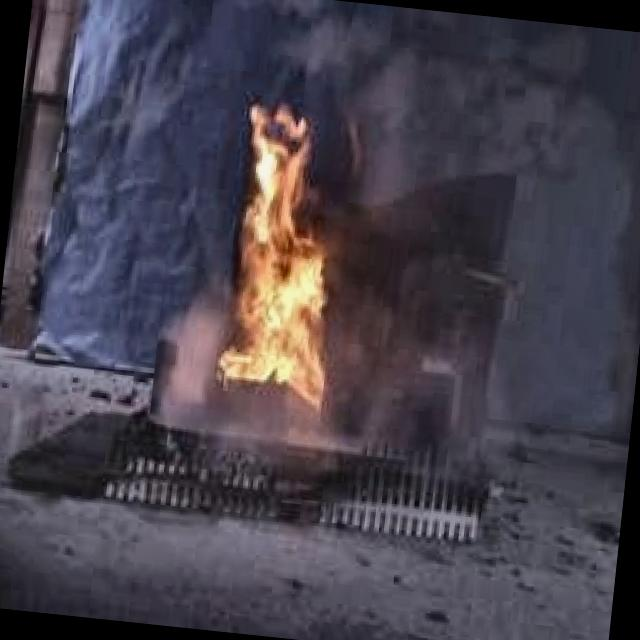fire: (189, 86, 393, 417)
